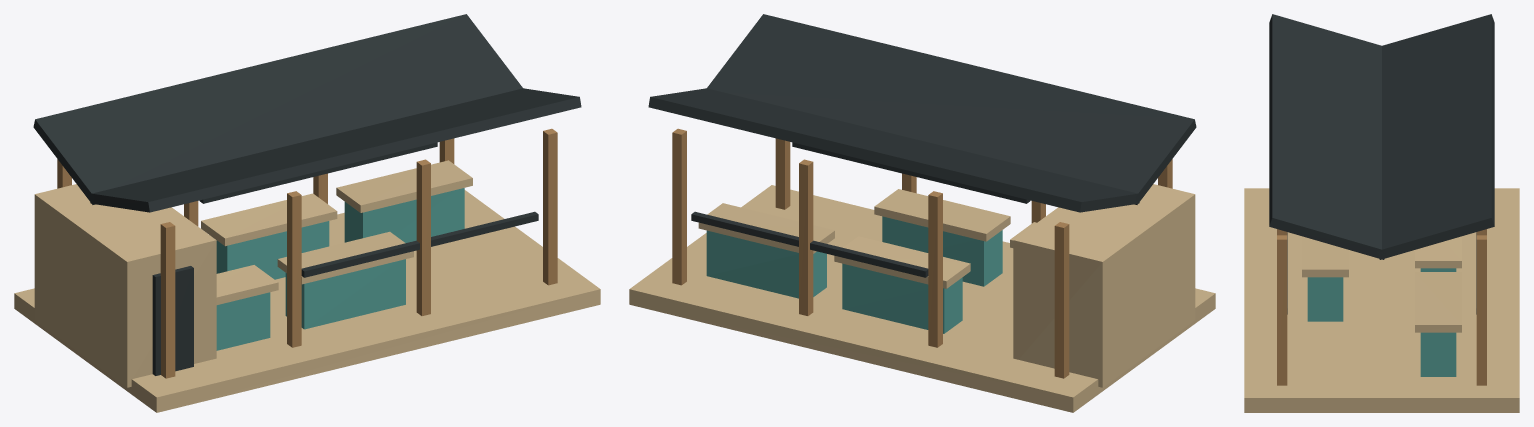
Rendered from Farmers-Market.glb.
The picture shows the model from 3 angles, left to right: view 1: azimuth 30°, elevation 25°; view 2: azimuth 150°, elevation 25°; view 3: azimuth 270°, elevation 25°; orthographic projection. The views are drawn at different scales.
Parts seen in each view (by area): view 1: farmers-market-static-farmers-market-charcoal-roof-and-rails, farmers-market-static-farmers-market-cream-kiosk-and-tops, farmers-market-static-farmers-market-pale-stone, farmers-market-static-farmers-market-muted-teal-counter-pane, farmers-market-static-farmers-market-warm-timber; view 2: farmers-market-static-farmers-market-charcoal-roof-and-rails, farmers-market-static-farmers-market-cream-kiosk-and-tops, farmers-market-static-farmers-market-pale-stone, farmers-market-static-farmers-market-muted-teal-counter-pane, farmers-market-static-farmers-market-warm-timber; view 3: farmers-market-static-farmers-market-charcoal-roof-and-rails, farmers-market-static-farmers-market-pale-stone, farmers-market-static-farmers-market-cream-kiosk-and-tops, farmers-market-static-farmers-market-muted-teal-counter-pane, farmers-market-static-farmers-market-warm-timber.
Part boxes in pixels (left/top/right/bottom): farmers-market-static-farmers-market-charcoal-roof-and-rails: left=33, top=14, right=581, bottom=375; farmers-market-static-farmers-market-cream-kiosk-and-tops: left=34, top=160, right=472, bottom=387; farmers-market-static-farmers-market-pale-stone: left=14, top=190, right=600, bottom=412; farmers-market-static-farmers-market-muted-teal-counter-pane: left=216, top=188, right=464, bottom=350; farmers-market-static-farmers-market-warm-timber: left=57, top=128, right=557, bottom=378; farmers-market-static-farmers-market-charcoal-roof-and-rails: left=648, top=14, right=1196, bottom=277; farmers-market-static-farmers-market-cream-kiosk-and-tops: left=698, top=184, right=1195, bottom=387; farmers-market-static-farmers-market-pale-stone: left=629, top=185, right=1215, bottom=412; farmers-market-static-farmers-market-muted-teal-counter-pane: left=706, top=216, right=1002, bottom=333; farmers-market-static-farmers-market-warm-timber: left=672, top=128, right=1172, bottom=378; farmers-market-static-farmers-market-charcoal-roof-and-rails: left=1269, top=14, right=1494, bottom=314; farmers-market-static-farmers-market-pale-stone: left=1244, top=188, right=1519, bottom=412; farmers-market-static-farmers-market-cream-kiosk-and-tops: left=1302, top=236, right=1461, bottom=332; farmers-market-static-farmers-market-muted-teal-counter-pane: left=1307, top=268, right=1456, bottom=376; farmers-market-static-farmers-market-warm-timber: left=1277, top=229, right=1486, bottom=385.
Size of the model in its own units: 7.27 by 3.08 by 4.
